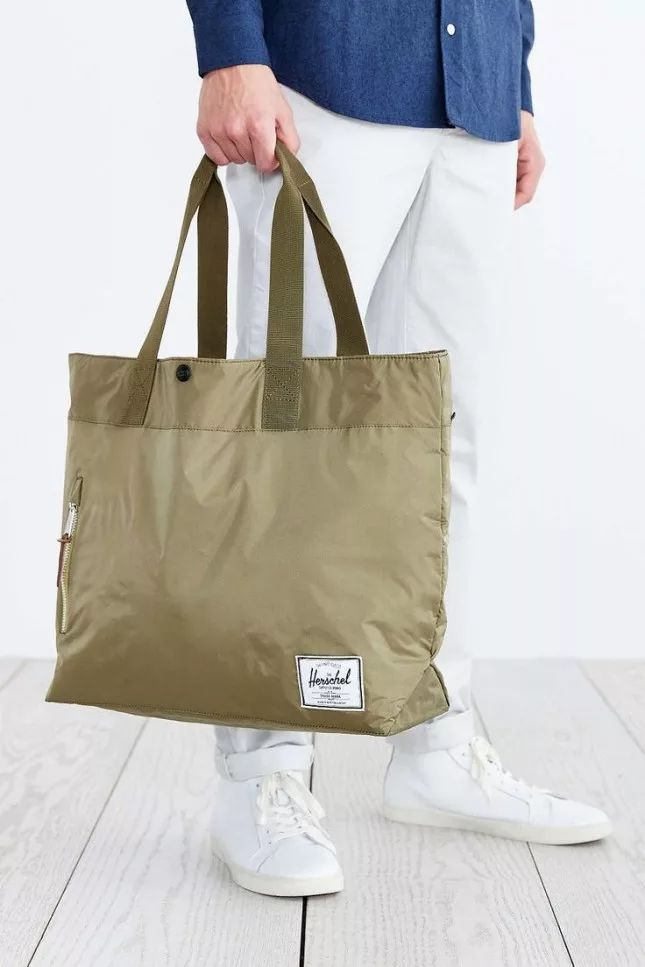nylon: (45, 349, 458, 738)
